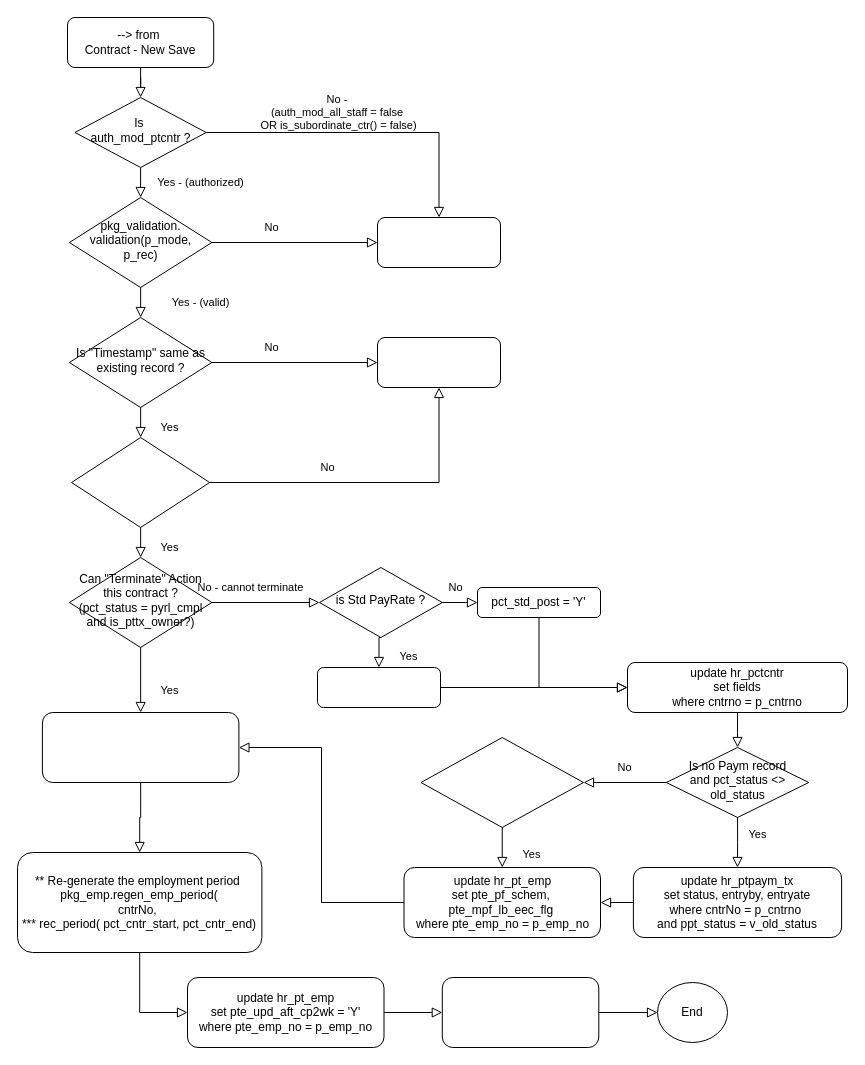
Image size: 865x1065. Some labels were removed from this diagram. Here are the shapes that lost their labels. From the top down, the box of each, then its label:
(376, 216, 500, 268): return (End)
(376, 336, 500, 388): raise Error Msg (End)
(71, 436, 210, 528): Is has any payment and pct_status = 'CE' ?
(316, 666, 440, 708): pct_std_post = 'N'
(41, 712, 239, 782): update hr_ptcntr set pct_cntr_end, pct_remarks where cntrNo = p_cntrNo
(420, 736, 584, 828): Is pkg_emp.is_emp_cre_cntr ( cntrNo, empNo) ( Is found in hr_pt_emp? )
(441, 976, 599, 1048): Show hrd_msg (e.g. record saved)
